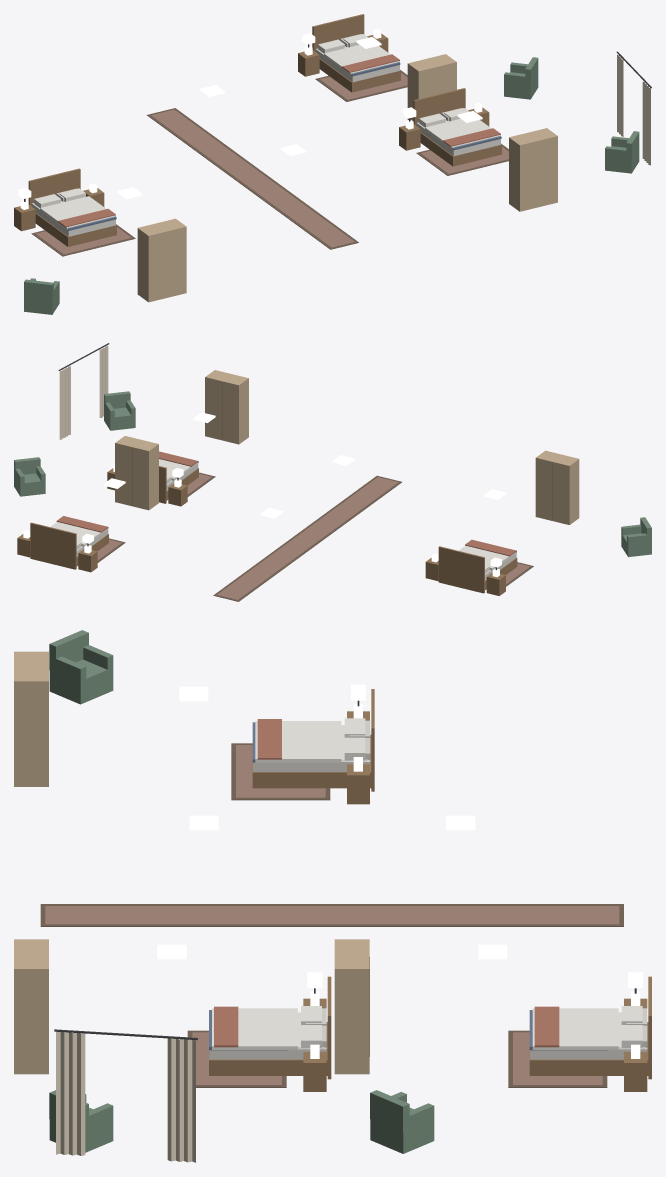
File: fine-s3.glb
3 renders of one model, top to bottom at view 1: azimuth 30°, elevation 25°; view 2: azimuth 150°, elevation 25°; view 3: azimuth 270°, elevation 25°, orthographic. The views are drawn at different scales.
Visible parts, largest first — view 1: soft-s3, dresser.006, dresser.008, bed-frame.008, bed-frame.007, bed-frame.006, dresser.007, lounge-chair.007, lounge-chair.008, lounge-chair.006, nightstand.014, nightstand.016 (+1 smaller); view 2: soft-s3, dresser.006, dresser.007, dresser.008, bed-frame.006, bed-frame.007, lounge-chair.007, lounge-chair.008, lounge-chair.006, bed-frame.008, nightstand.016, nightstand.012 (+1 smaller); view 3: soft-s3, dresser.007, dresser.006, dresser.008, lounge-chair.006, bed-frame.006, bed-frame.008, bed-frame.007, lounge-chair.007, lounge-chair.008, nightstand.017, nightstand.015 (+1 smaller).
Part boxes in pixels (x1,y1,x2,y2): soft-s3: (18, 33, 651, 256); dresser.006: (137, 218, 186, 302); dresser.008: (509, 128, 557, 211); bed-frame.008: (413, 88, 501, 166); bed-frame.007: (312, 14, 400, 92); bed-frame.006: (28, 168, 116, 246); dresser.007: (407, 54, 456, 121); lounge-chair.007: (504, 57, 538, 99); lounge-chair.008: (605, 131, 639, 173); lounge-chair.006: (24, 278, 59, 314); nightstand.014: (298, 45, 319, 76); nightstand.016: (399, 120, 420, 150); soft-s3: (50, 343, 533, 601); dresser.006: (535, 450, 579, 524); dresser.007: (115, 436, 158, 510); dresser.008: (205, 370, 248, 444); bed-frame.006: (438, 546, 517, 593); bed-frame.007: (30, 522, 108, 569); lounge-chair.007: (14, 457, 45, 496); lounge-chair.008: (104, 391, 135, 430); lounge-chair.006: (621, 517, 651, 557); bed-frame.008: (159, 461, 198, 503); nightstand.016: (168, 479, 187, 506); nightstand.012: (486, 568, 505, 595); soft-s3: (40, 684, 644, 1162); dresser.007: (334, 939, 369, 1074); dresser.006: (14, 651, 48, 786); dresser.008: (14, 939, 48, 1074); lounge-chair.006: (49, 630, 113, 704); bed-frame.006: (252, 689, 374, 791); bed-frame.008: (209, 976, 331, 1079); bed-frame.007: (529, 976, 651, 1079); lounge-chair.007: (370, 1090, 434, 1153); lounge-chair.008: (49, 1090, 113, 1152); nightstand.017: (303, 1044, 326, 1091); nightstand.015: (624, 1044, 647, 1091).
Bounding box in the file's own units: 19.83 × 2.41 × 10.96.
